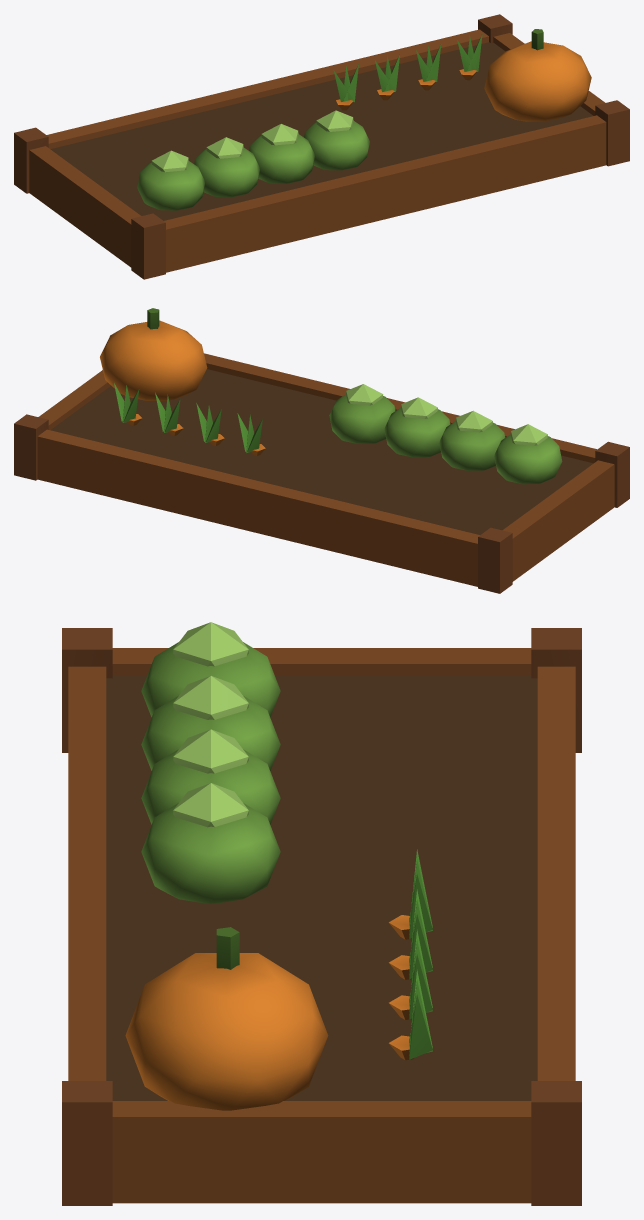
File: b_beet.glb
3 renders of one model, top to bottom at view 1: azimuth 30°, elevation 25°; view 2: azimuth 150°, elevation 25°; view 3: azimuth 270°, elevation 25°, orthographic. The views are drawn at different scales.
Parts seen in each view (by area): view 1: body; view 2: body; view 3: body.
Part boxes in pixels (bbox=[...]): body: bbox=[14, 14, 629, 279]; body: bbox=[14, 308, 629, 593]; body: bbox=[62, 622, 581, 1205].
Size of the model in its own units: 3.54 by 0.78 by 1.64.
